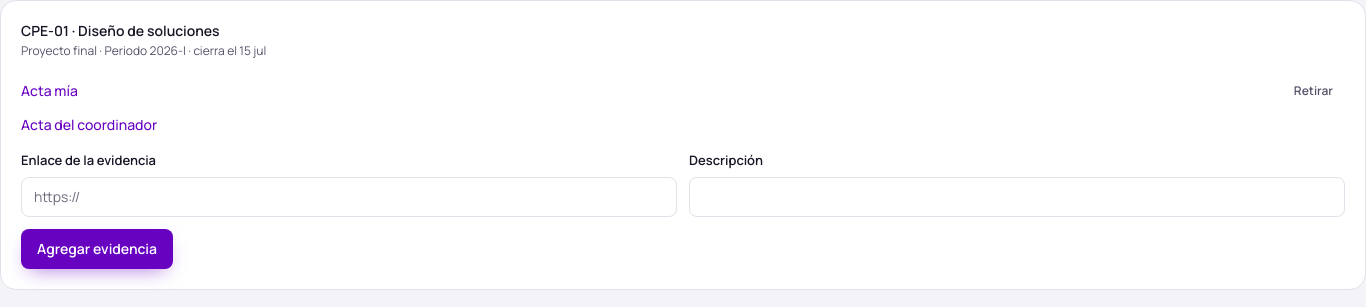
TarjetaEvaluacion — foco y confirmación › la confirmación es un grupo con nombre y el foco pasa a «Confirmar» al abrirla
Click the button with aria-label "Retirar Acta mía".
click(1313, 91)  # box [1282, 75, 1345, 107]
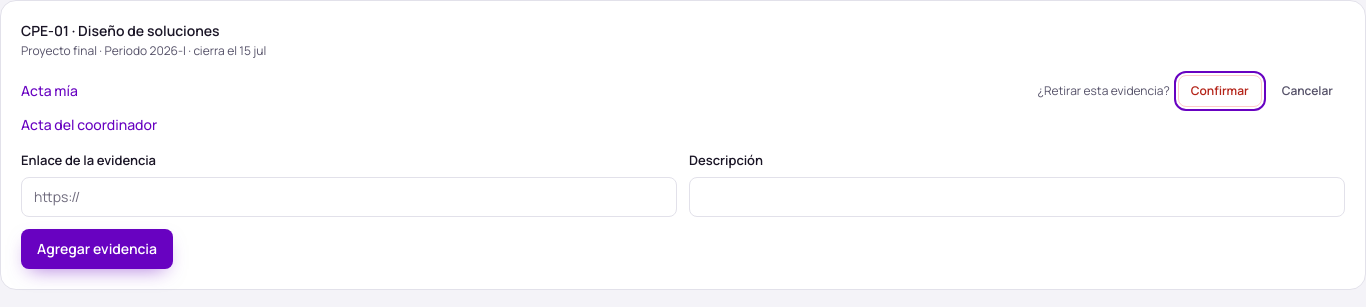
Expected: the element named "Confirmar retiro de Acta mía" is shown, [1038, 75, 1345, 107]
